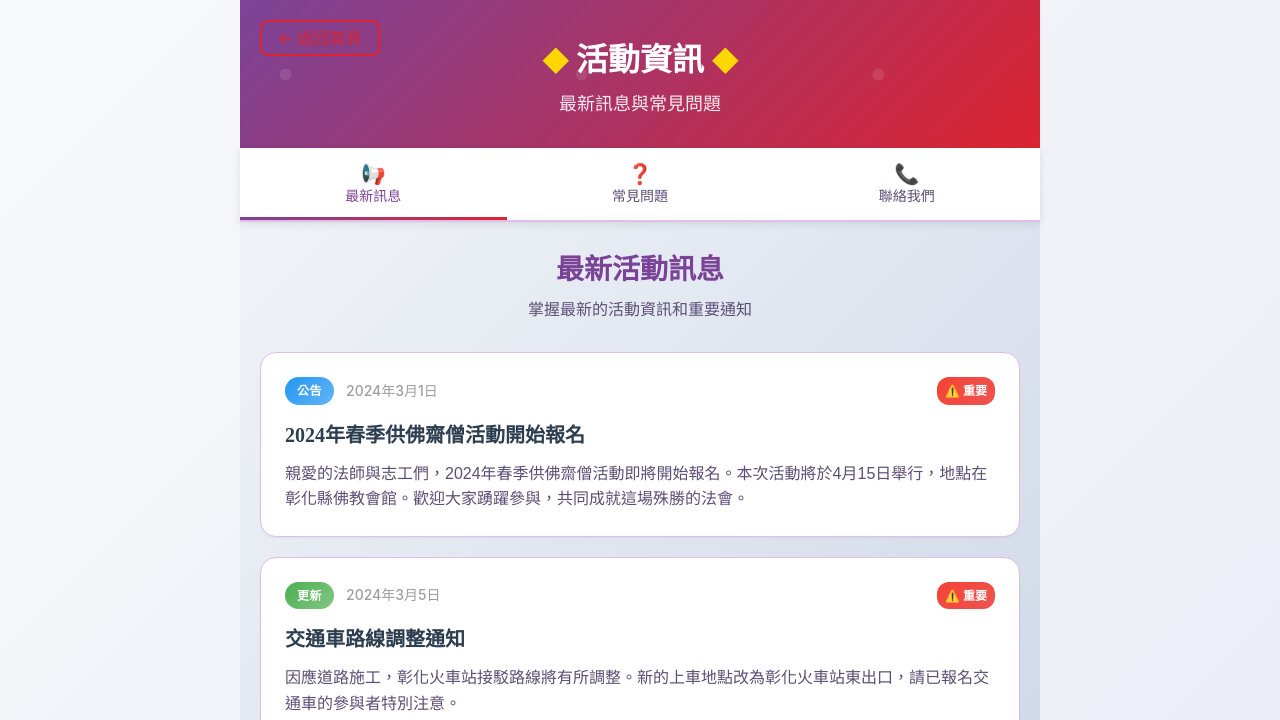
Scenario: InfoPage › 聯絡資訊功能 › 應該顯示所有聯絡資訊卡片
Click the tab "📞 聯絡我們" at x=907, y=184, box [773, 148, 1040, 220]
(page scrolled)
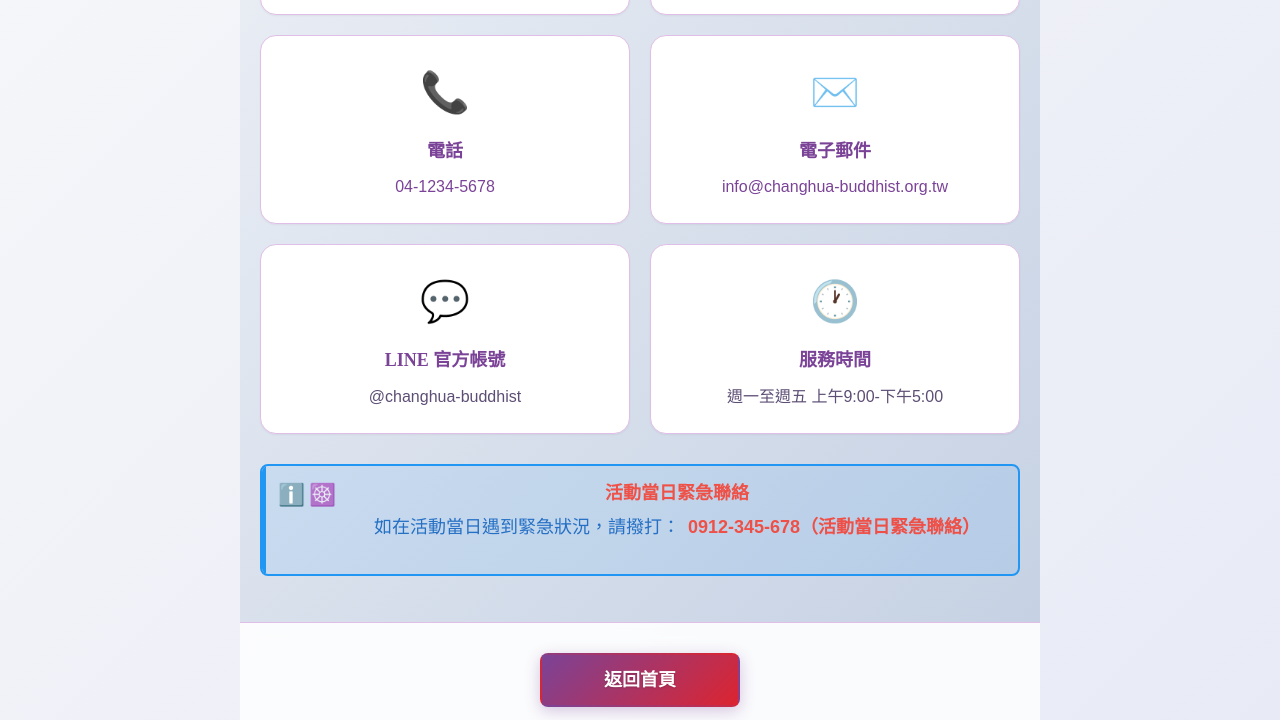
Check: the heading "電話" is shown, box [427, 141, 463, 161]
Check: the heading "電子郵件" is shown, box [799, 141, 871, 161]
Check: the heading "LINE 官方帳號" is shown, box [385, 350, 505, 370]
